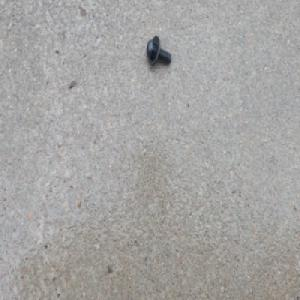BoltWasher: (146, 34, 172, 67)
